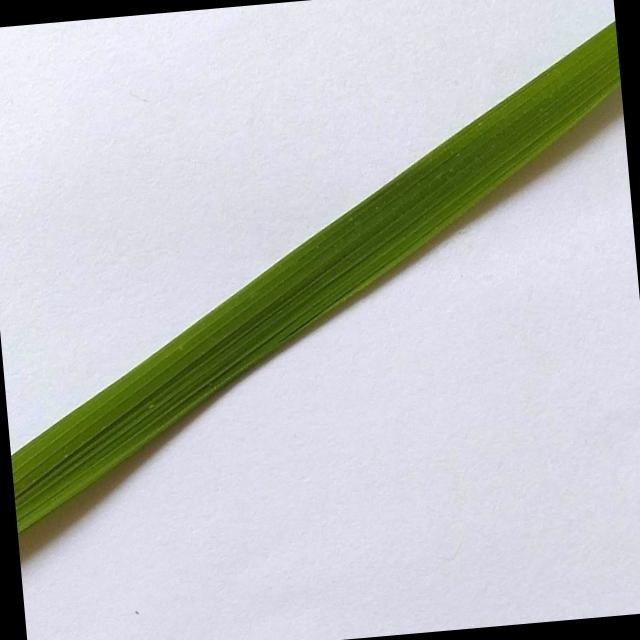Rice_Healthy: (11, 21, 620, 532)
